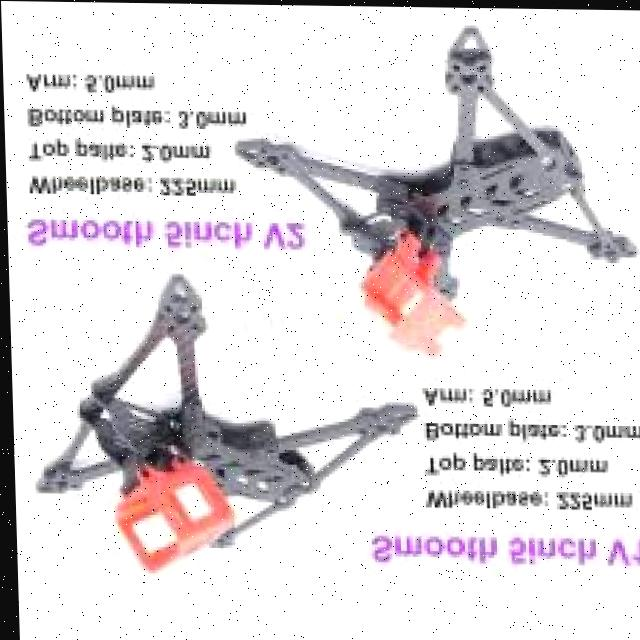drone: (228, 16, 632, 368), (25, 262, 443, 571)
